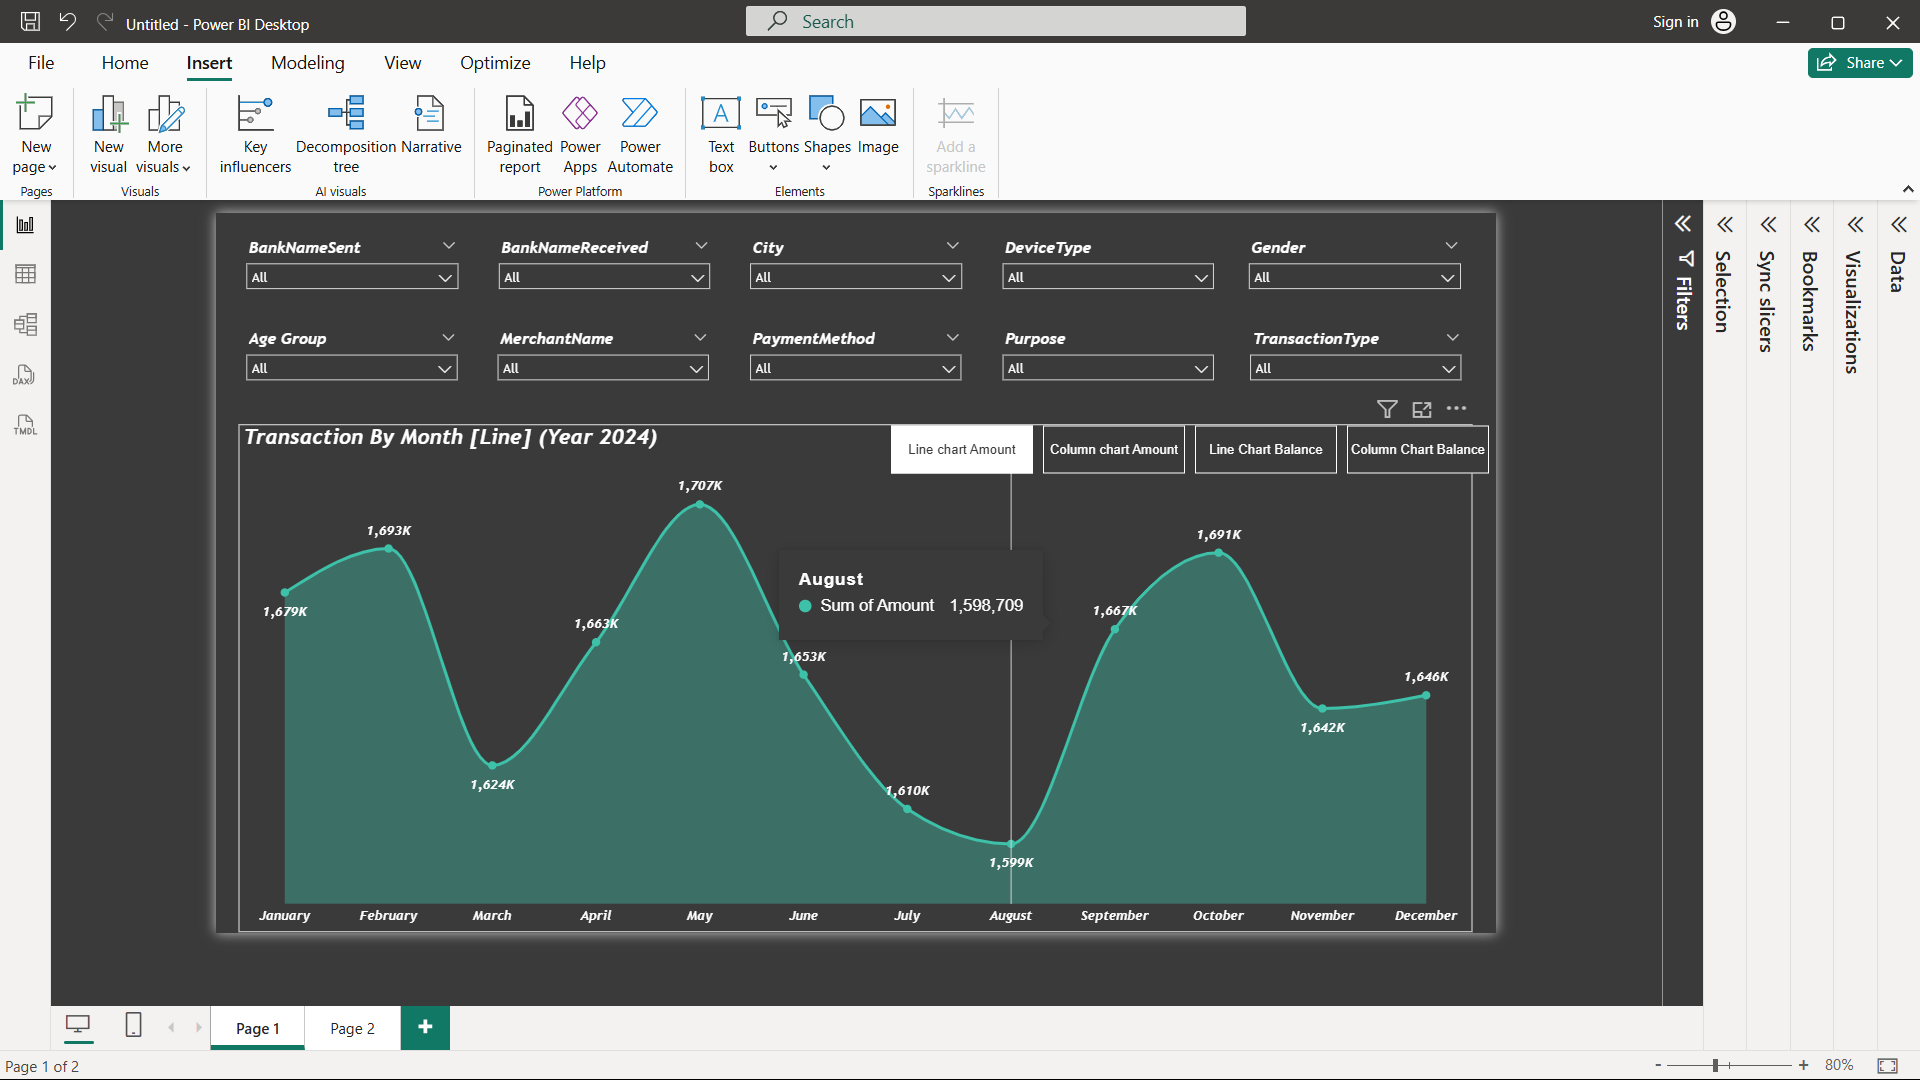

Layout of this report page (visuals, bound fields, positions):
{"tool":"powerbi","page":{"name":"Page 1","canvas":[1280,720],"ordinal":0},"visuals":[{"type":"slicer","fields":{"Values":["Sheet1.BankNameSent"]},"box":[20,20,232,80],"z":0},{"type":"slicer","fields":{"Values":["Sheet1.BankNameSent"]},"box":[272,20.6,231.9,79.6],"z":1000},{"type":"slicer","fields":{"Values":["Sheet1.BankNameSent"]},"box":[524,20.6,232,80],"z":2000},{"type":"slicer","fields":{"Values":["Sheet1.BankNameSent"]},"box":[776,20.6,231.9,79.6],"z":3000},{"type":"slicer","fields":{"Values":["Sheet1.BankNameSent"]},"box":[1023,20.6,232,80],"z":4000},{"type":"slicer","fields":{"Values":["Sheet1.BankNameSent"]},"box":[19.8,111.6,231.4,80.2],"z":4001},{"type":"slicer","fields":{"Values":["Sheet1.BankNameSent"]},"box":[271.7,111.1,231.9,79.6],"z":4002},{"type":"slicer","fields":{"Values":["Sheet1.BankNameSent"]},"box":[524.2,111.1,231.9,79.6],"z":4003},{"type":"slicer","fields":{"Values":["Sheet1.BankNameSent"]},"box":[776.7,111.1,231.9,79.6],"z":4004},{"type":"slicer","fields":{"Values":["Sheet1.BankNameSent"]},"box":[1023.7,111.1,231.9,79.6],"z":4005}]}

Visuals, with their boxes on the page's 1280x720 design canvas (x1, y1, x2, y2). These are canvas units, not pixel positions in the 1920x1080 screenshot, which may show the page scaled, cropped or inside an application window:
slicer - Sheet1.BankNameSent: 20,20,252,100
slicer - Sheet1.BankNameSent: 272,21,504,100
slicer - Sheet1.BankNameSent: 524,21,756,101
slicer - Sheet1.BankNameSent: 776,21,1008,100
slicer - Sheet1.BankNameSent: 1023,21,1255,101
slicer - Sheet1.BankNameSent: 20,112,251,192
slicer - Sheet1.BankNameSent: 272,111,504,191
slicer - Sheet1.BankNameSent: 524,111,756,191
slicer - Sheet1.BankNameSent: 777,111,1009,191
slicer - Sheet1.BankNameSent: 1024,111,1256,191
